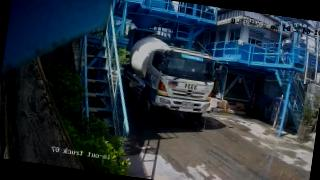cement_mixer_truck: (120, 37, 217, 121)
